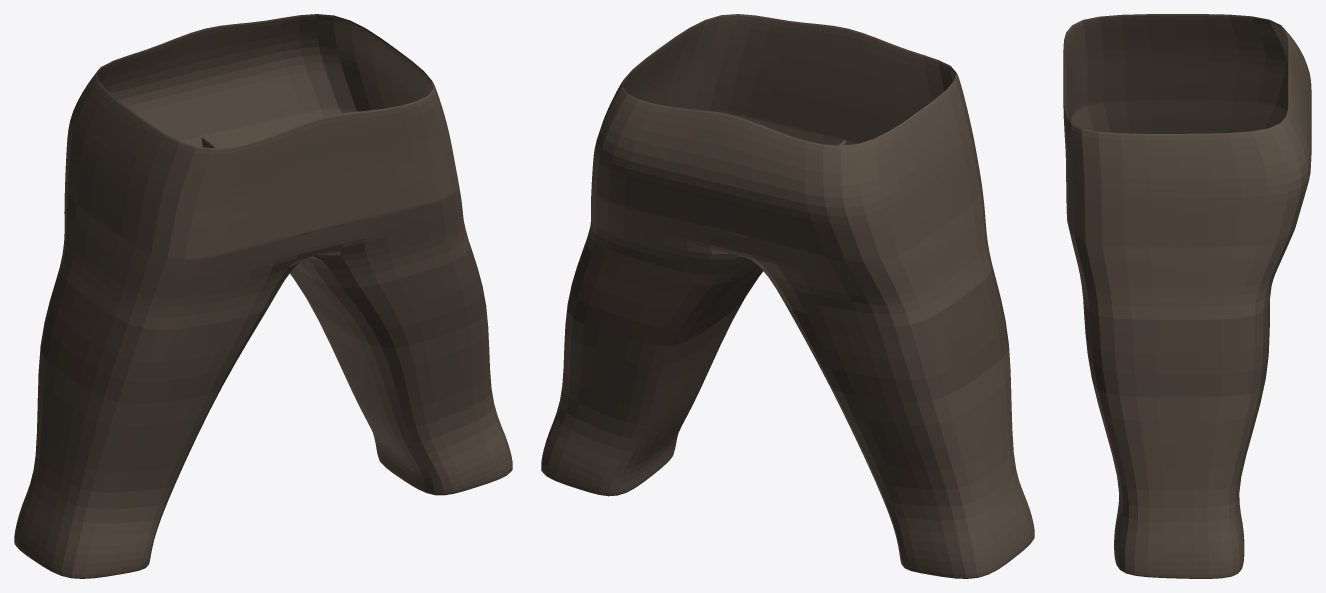
File: Bottom 3.fbx
3 renders of one model, left to right at view 1: azimuth 30°, elevation 25°; view 2: azimuth 150°, elevation 25°; view 3: azimuth 270°, elevation 25°, orthographic. The views are drawn at different scales.
Visible parts, largest first — view 1: Bottom 3; view 2: Bottom 3; view 3: Bottom 3.
Boxes of the visible parts, box(x1,y1,x2,y2) form: Bottom 3: box(14, 14, 512, 578); Bottom 3: box(541, 14, 1034, 578); Bottom 3: box(1063, 14, 1311, 578).
Bounding box in the file's own units: 122 × 112 × 60.82.
